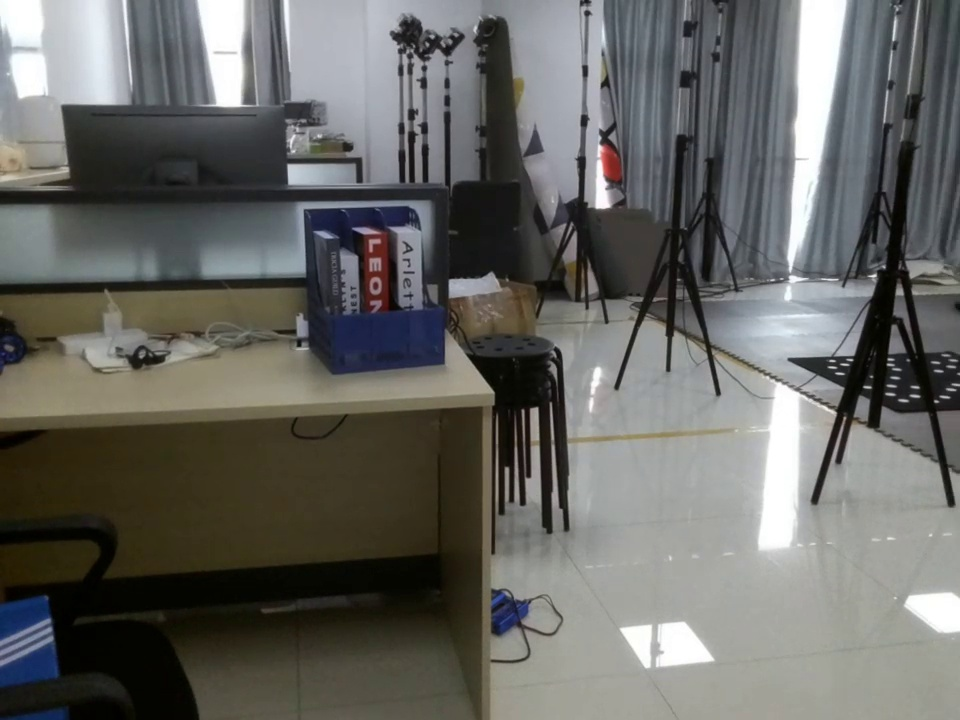files: (297, 200, 452, 374)
